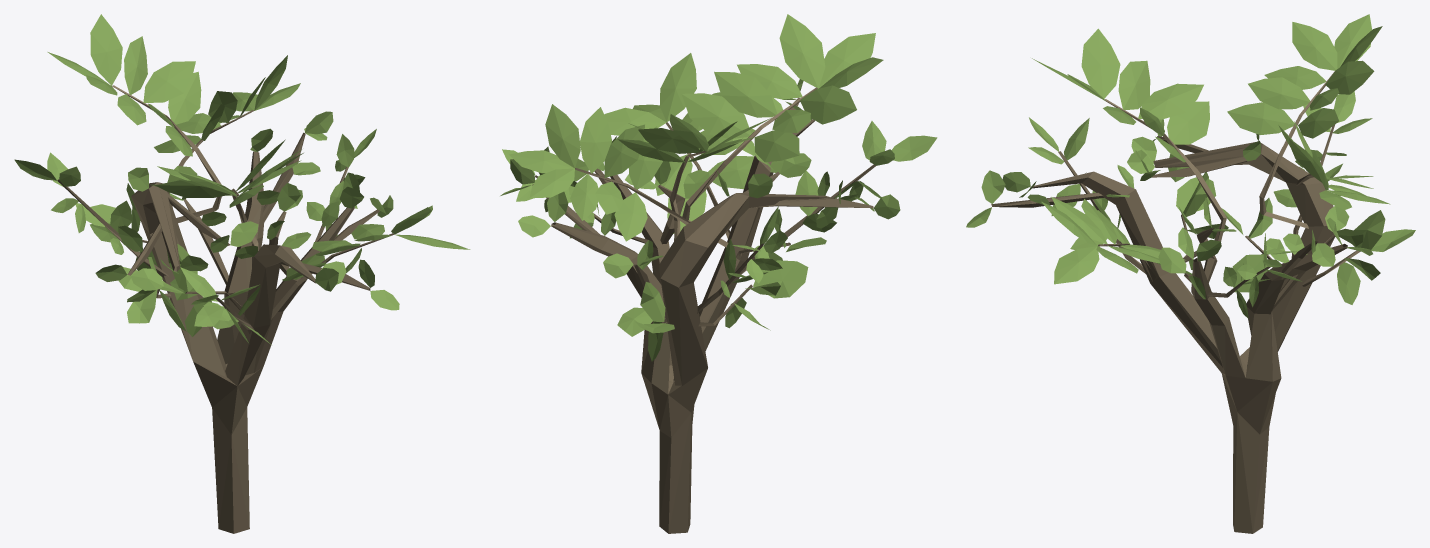
Rendered from Cherry_5_3.fbx.
The picture shows the model from 3 angles, left to right: view 1: azimuth 30°, elevation 25°; view 2: azimuth 150°, elevation 25°; view 3: azimuth 270°, elevation 25°; orthographic projection.
Parts seen in each view (by area): view 1: Cherry_5_3; view 2: Cherry_5_3; view 3: Cherry_5_3.
Part boxes in pixels (box(x1,y1,x2,y2)): Cherry_5_3: box(14, 14, 470, 533); Cherry_5_3: box(500, 14, 937, 533); Cherry_5_3: box(966, 14, 1415, 533).
Bounding box in the file's own units: 285 × 384 × 332.
